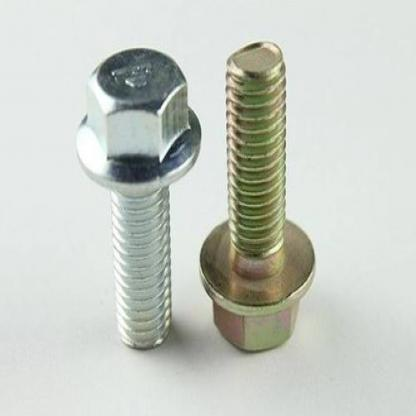FOD: (72, 46, 201, 346), (199, 38, 318, 357)
